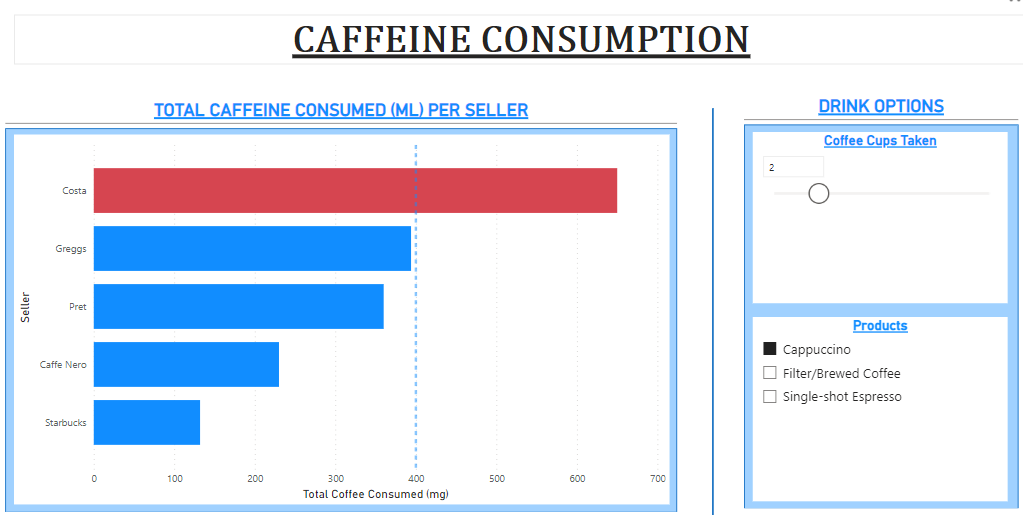

The page's visual inventory and layout, read from the dashboard file:
{"tool":"powerbi","page":{"name":"Caffeine Consumption","canvas":[1280,720],"ordinal":0},"visuals":[{"type":"shape","title":"TOTAL CAFFEINE CONSUMED (ML) PER SELLER","box":[19.8,186.4,822.2,504.9],"z":0},{"type":"shape","title":"DRINK OPTIONS","box":[923.7,182.5,335.8,504.9],"z":1000},{"type":"slicer","title":"Coffee Cups Taken","fields":{"Values":["Coffee Cups Taken.Coffee Cups Taken"]},"box":[934.8,225.7,312.3,209.9],"z":2000},{"type":"slicer","title":"Products","fields":{"Values":["Caffeine Data.Product"]},"box":[934.8,452.8,312.3,225.9],"z":3000},{"type":"clusteredBarChart","title":"Total Caffeine Consumed (ml) by Seller","fields":{"Y":["Caffeine Data.Total Coffee Consumed (mg)"],"Category":["Caffeine Data.Seller"]},"box":[30.9,229.6,802.5,453.1],"z":4000},{"type":"textbox","box":[30.9,60.5,1249.4,82.7],"z":5000},{"type":"shape","box":[741.9,197.7,288.4,509.3],"z":6000}]}

Visuals, with their boxes on the page's 1280x720 design canvas (x1, y1, x2, y2). These are canvas units, not pixel positions in the 1023x515 screenshot, which may show the page scaled, cropped or inside an application window:
"TOTAL CAFFEINE CONSUMED (ML) PER SELLER" shape: (left=20, top=186, right=842, bottom=691)
"DRINK OPTIONS" shape: (left=924, top=182, right=1260, bottom=687)
"Coffee Cups Taken" slicer: (left=935, top=226, right=1247, bottom=436)
"Products" slicer: (left=935, top=453, right=1247, bottom=679)
"Total Caffeine Consumed (ml) by Seller" clusteredBarChart: (left=31, top=230, right=833, bottom=683)
textbox: (left=31, top=60, right=1280, bottom=143)
shape: (left=742, top=198, right=1030, bottom=707)
